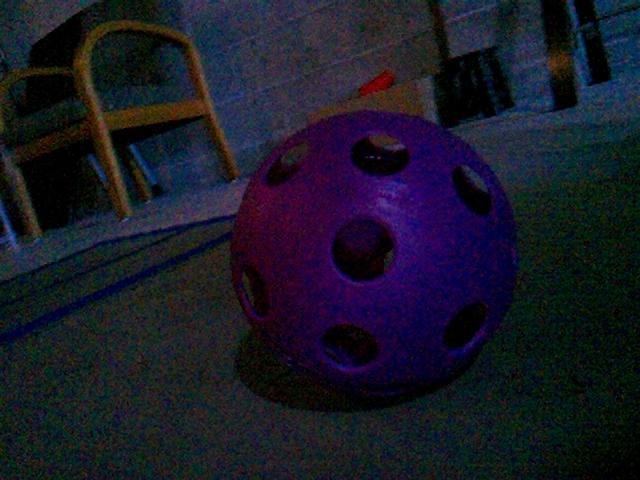Purple: (230, 110, 518, 393)
